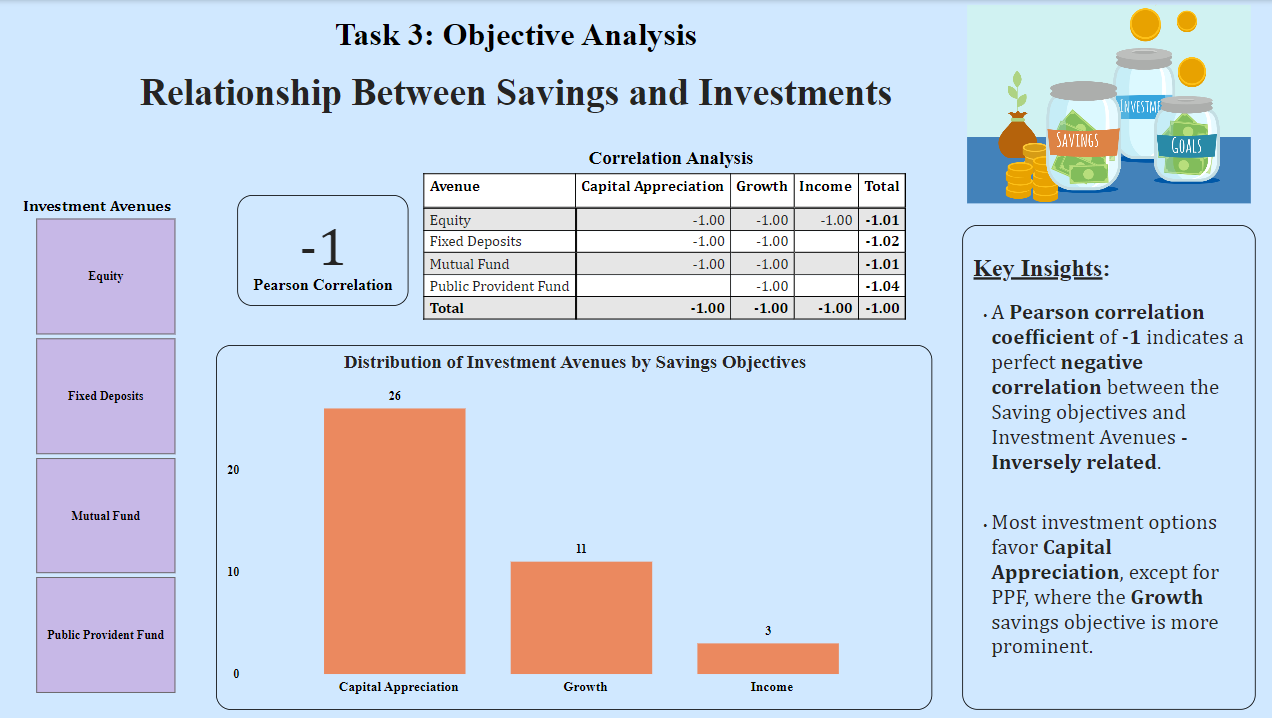

The page's visual inventory and layout, read from the dashboard file:
{"tool":"powerbi","page":{"name":"Page 1","canvas":[1280,720],"ordinal":0},"visuals":[{"type":"card","fields":{"Values":["Data_set 2.Pearson Correlation"]},"box":[245.1,194.1,170.4,110.7],"z":0},{"type":"pivotTable","title":"Correlation Analysis","fields":{"Values":["Data_set 2.Pearson Correlation"],"Rows":["Data_set 2.Avenue"],"Columns":["Data_set 2.Objective"]},"box":[425.4,146.8,502.6,181.6],"z":1000},{"type":"clusteredColumnChart","title":"Distribution of Investment Avenues by Savings Objectives","fields":{"Y":["CountNonNull(Data_set 2.Avenue)"],"Category":["Data_set 2.Objective"]},"box":[223.9,343.3,712.8,363.2],"z":2000},{"type":"slicer","fields":{"Values":["Data_set 2.Avenue"]},"box":[18.7,190.3,189.1,506.3],"z":3000},{"type":"textbox","box":[57.6,9.6,930.4,116.6],"z":4000},{"type":"textbox","box":[966.6,223.9,292.3,472.7],"z":5000},{"type":"image","box":[966.6,0,292.3,207.7],"z":6000}]}

Visuals, with their boxes in screenshot pixels (x1, y1, x2, y2), scaled from the page's 1280x720 canvas onto the 1272x718 screenshot:
card - Data_set 2.Pearson Correlation: <region>244, 194, 413, 304</region>
"Correlation Analysis" pivotTable: <region>423, 146, 922, 327</region>
"Distribution of Investment Avenues by Savings Objectives" clusteredColumnChart: <region>223, 342, 931, 705</region>
slicer - Data_set 2.Avenue: <region>19, 190, 207, 695</region>
textbox: <region>57, 10, 982, 126</region>
textbox: <region>961, 223, 1251, 695</region>
image: <region>961, 0, 1251, 207</region>
